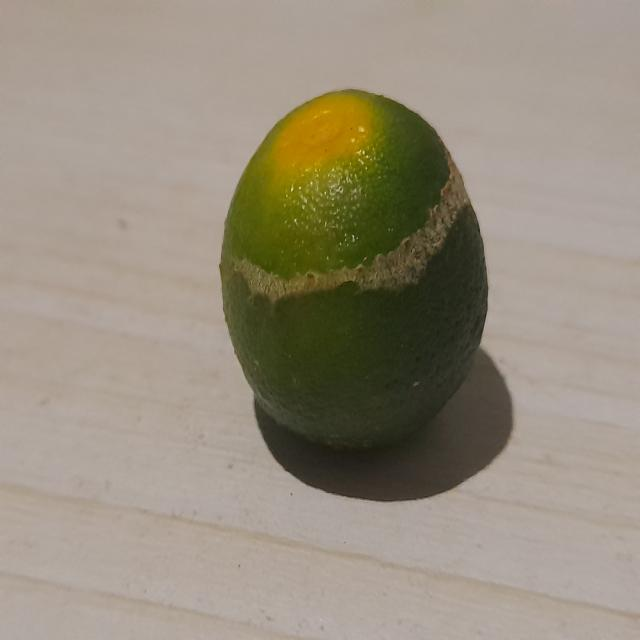thrips: (208, 83, 502, 460)
